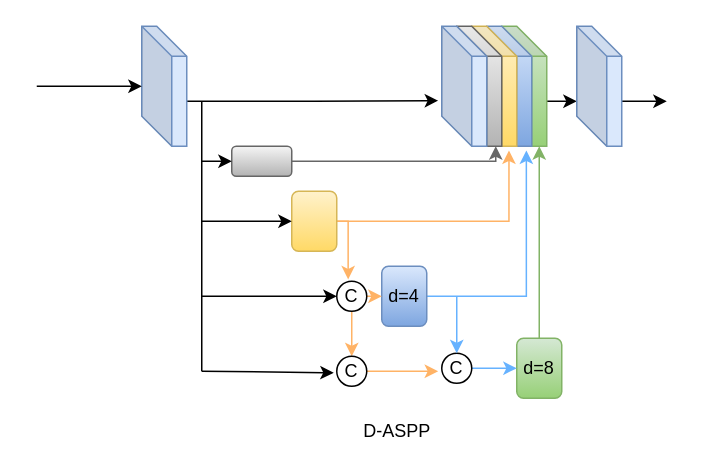
Image size: 705x473. Some labels were removed from this diagram. The shapes that lost their labels are listed below. From the top down, each one's centre as x and y in pixels, then its label:
(261,160): conv
(313,220): d=2
